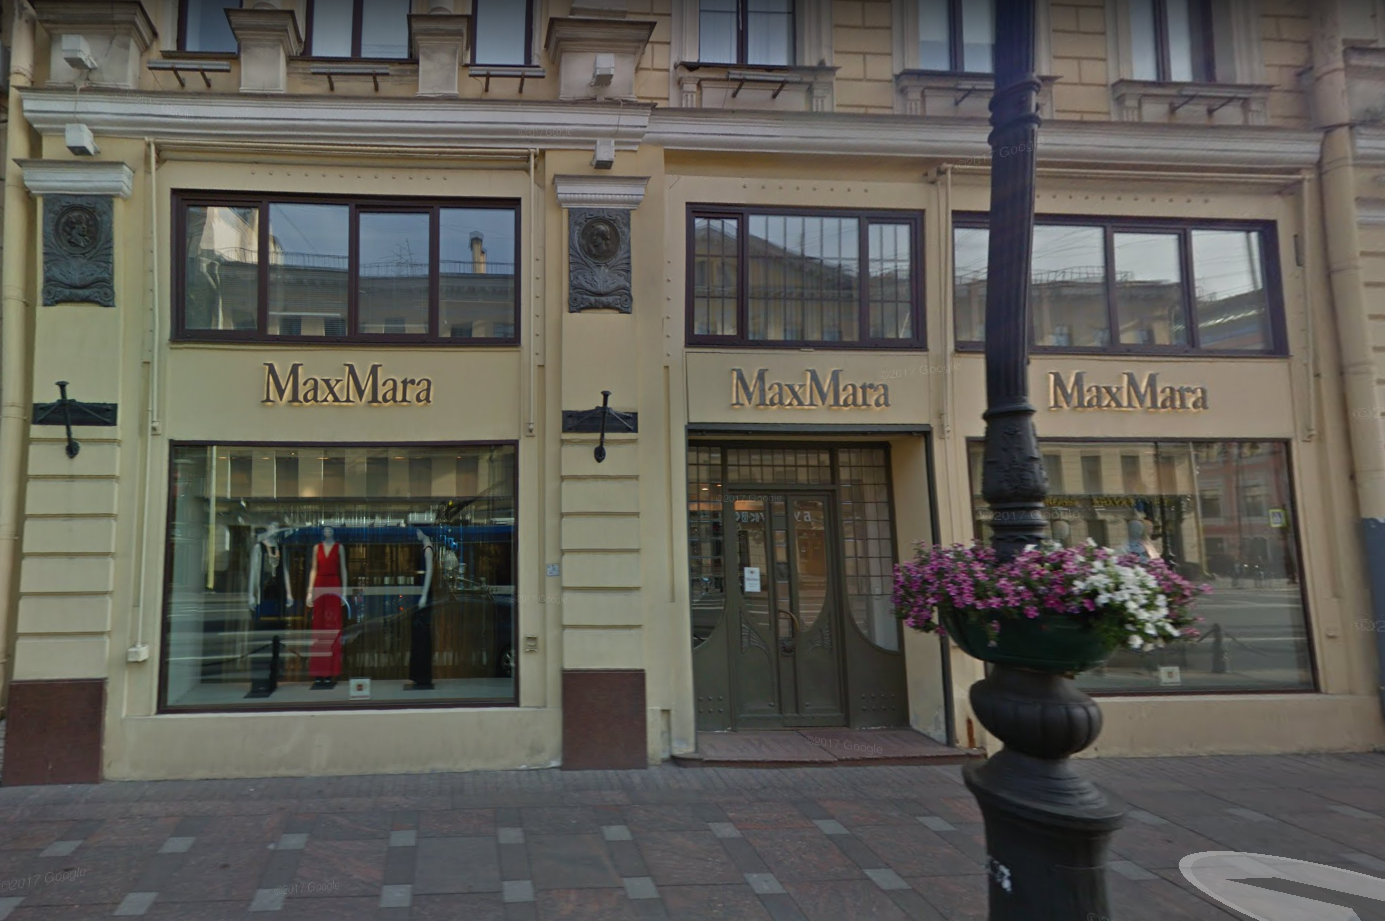door: (727, 481, 846, 729)
signboard: (1048, 364, 1218, 423), (258, 357, 445, 409), (725, 364, 897, 416)
window: (174, 429, 510, 710), (1047, 434, 1328, 693), (169, 182, 512, 344), (950, 205, 1285, 358), (685, 200, 928, 354)
